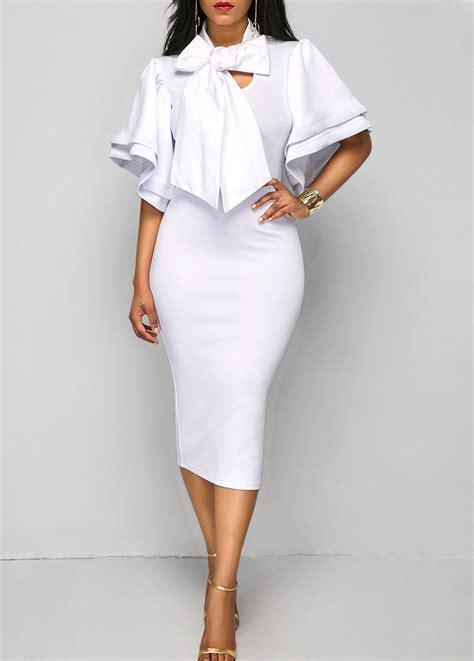dress: (112, 21, 372, 491)
